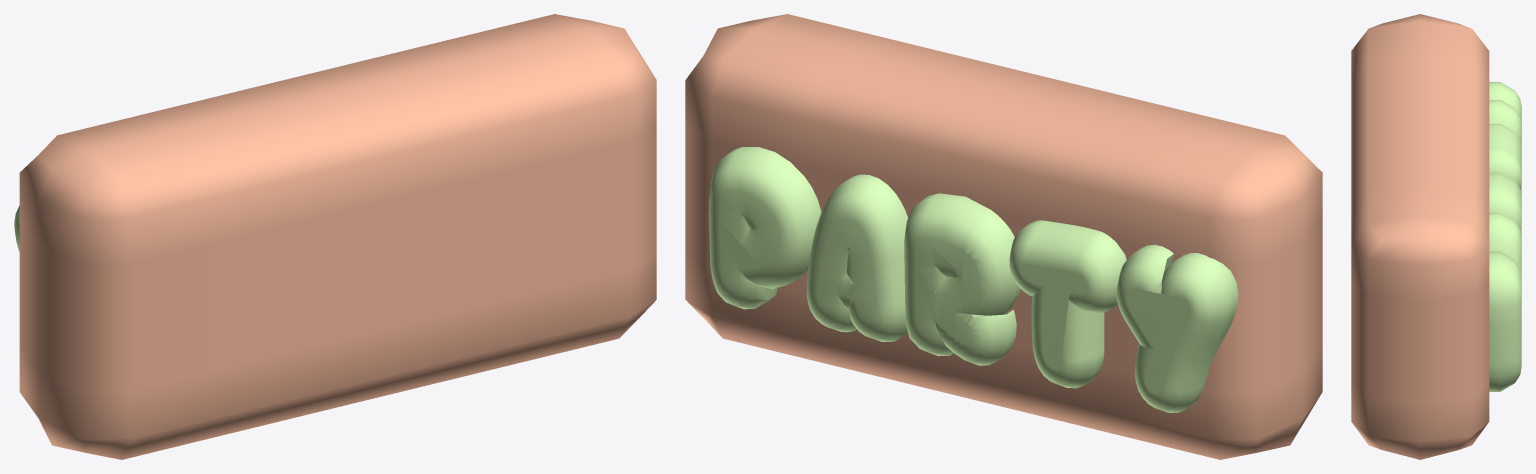
Rendered from Einladung2.fbx.
3 views of the same model, side by side, from view 1: azimuth 30°, elevation 25°; view 2: azimuth 150°, elevation 25°; view 3: azimuth 270°, elevation 25° (orthographic). The views are drawn at different scales.
Visible parts, largest first — view 1: pCube509; view 2: pCube509, typeMesh1; view 3: pCube509, typeMesh1.
Part boxes in pixels (x1,y1,x2,y2): pCube509: [19, 14, 656, 459]; pCube509: [685, 14, 1322, 459]; typeMesh1: [708, 147, 1238, 412]; pCube509: [1351, 14, 1489, 459]; typeMesh1: [1489, 82, 1521, 391].
Bounding box in the file's own units: 2.3 × 1.09 × 0.7083.
